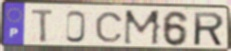0: (65, 10, 87, 44)
6: (162, 9, 191, 47)
C: (93, 11, 125, 44)
M: (122, 9, 163, 47)
R: (192, 11, 226, 47)
T: (30, 8, 56, 44)
